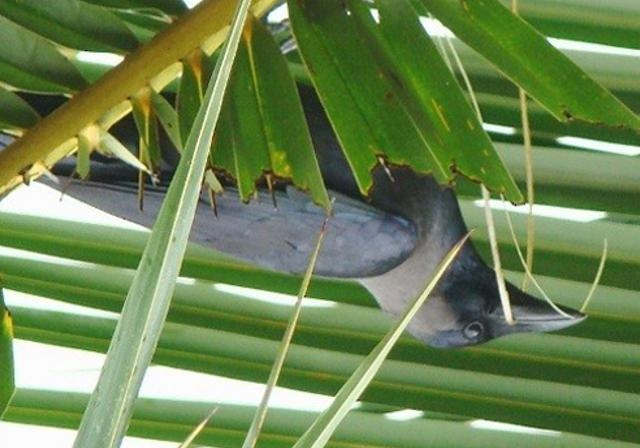crow: (54, 51, 589, 356)
